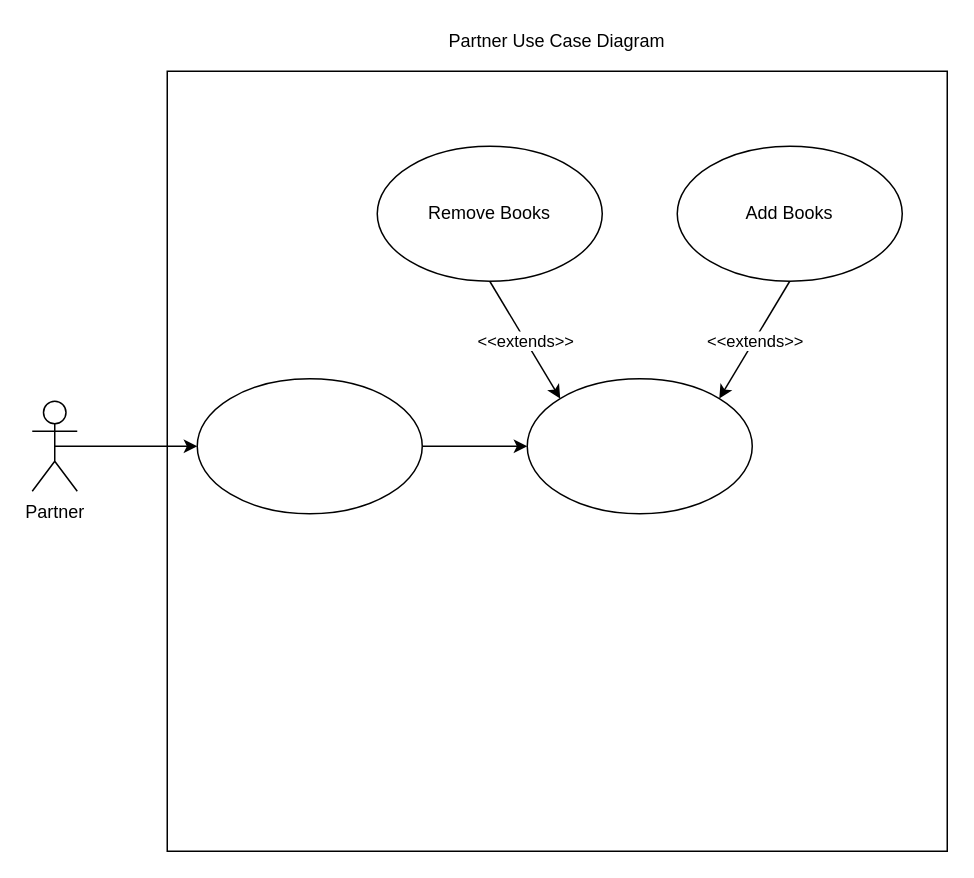
The diagram is 974 pixels wide and 878 high, and some of its shapes have lost their labels. Each missing label, with the box of its shape:
Login: (196, 377, 422, 514)
View Book Catalogue: (526, 377, 752, 514)
